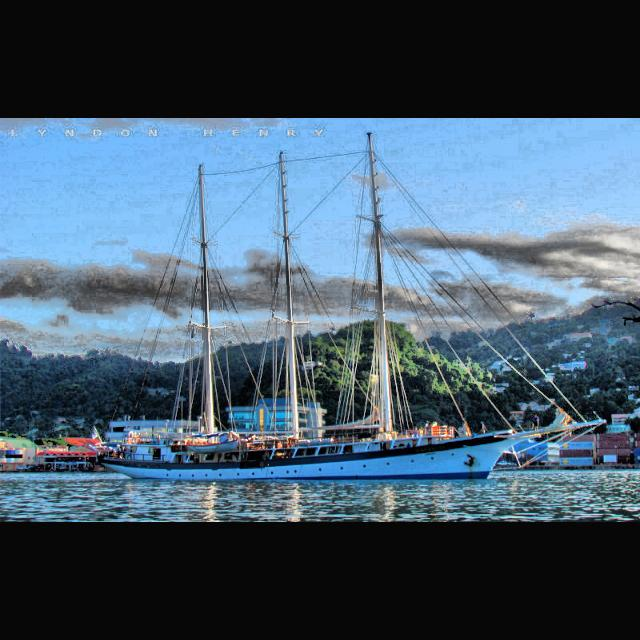sailing_vessel: (96, 130, 608, 482)
